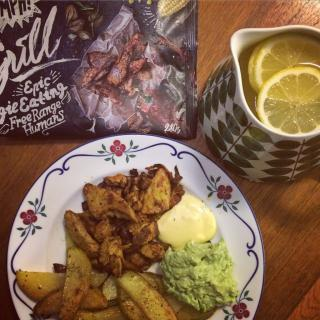Lemon: (247, 35, 319, 103), (258, 68, 320, 134)
